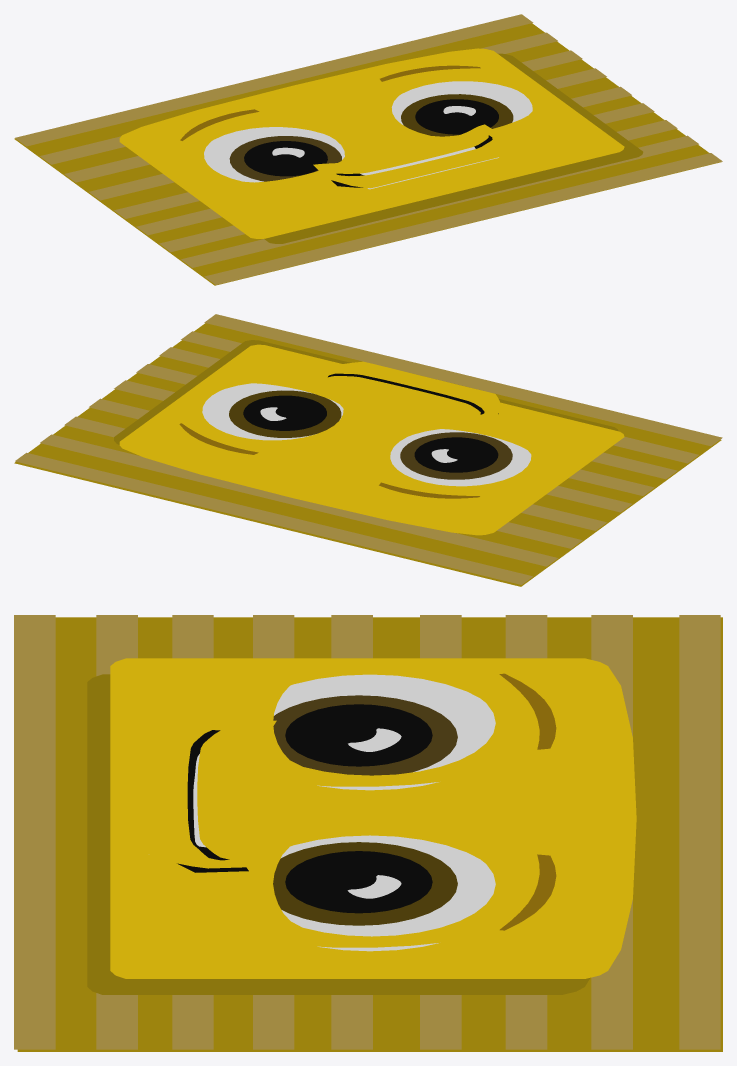
The model's file is Toasty_Latest_Blender_Export.glb.
The picture shows the model from 3 angles, top to bottom: view 1: azimuth 30°, elevation 25°; view 2: azimuth 150°, elevation 25°; view 3: azimuth 270°, elevation 25°; orthographic projection. The views are drawn at different scales.
Parts seen in each view (by area): view 1: FaceGEO, BG_GEO, Stripe9, Strip1, R_LidGEO, Mouth, L_LidGEO, Plane, Stripe2, L_Sclera, R_Sclera, FaceShadowGeo (+11 smaller); view 2: FaceGEO, BG_GEO, Stripe9, Strip1, R_LidGEO, L_LidGEO, Mouth, Stripe8, R_Pupil, L_Pupil, R_Sclera, L_Sclera (+12 smaller); view 3: FaceGEO, BG_GEO, Strip1, Stripe9, L_LidGEO, R_LidGEO, Mouth, FaceShadowGeo, R_Sclera, Stripe8, R_Pupil, L_Pupil (+15 smaller).
Boxes of the visible parts, <box> form: FaceGEO: <box>119,48,624,238</box>; BG_GEO: <box>14,23,721,285</box>; Stripe9: <box>15,14,533,146</box>; Strip1: <box>204,153,722,284</box>; R_LidGEO: <box>182,111,368,197</box>; Mouth: <box>313,124,508,188</box>; L_LidGEO: <box>370,65,557,145</box>; Plane: <box>267,142,635,238</box>; Stripe2: <box>181,135,698,267</box>; L_Sclera: <box>391,81,532,125</box>; R_Sclera: <box>204,127,344,182</box>; FaceShadowGeo: <box>264,53,643,243</box>; FaceGEO: <box>119,344,624,535</box>; BG_GEO: <box>14,323,721,586</box>; Stripe9: <box>15,452,532,584</box>; Strip1: <box>204,314,722,446</box>; R_LidGEO: <box>368,414,556,500</box>; L_LidGEO: <box>180,368,368,454</box>; Mouth: <box>308,361,499,426</box>; Stripe8: <box>40,434,558,566</box>; R_Pupil: <box>414,437,498,472</box>; L_Pupil: <box>243,395,326,430</box>; R_Sclera: <box>390,429,531,486</box>; L_Sclera: <box>202,383,343,440</box>; FaceGEO: <box>110,658,636,978</box>; BG_GEO: <box>17,617,722,1051</box>; Strip1: <box>14,615,55,1049</box>; Stripe9: <box>679,615,720,1049</box>; L_LidGEO: <box>200,820,561,947</box>; R_LidGEO: <box>201,659,561,786</box>; Mouth: <box>140,717,276,868</box>; FaceShadowGeo: <box>87,674,590,994</box>; R_Sclera: <box>274,674,495,790</box>; Stripe8: <box>591,615,632,1049</box>; R_Pupil: <box>285,704,432,766</box>; L_Pupil: <box>285,851,432,913</box>.
Size of the model in its own units: 3.25 by 0.1536 by 2.24.
